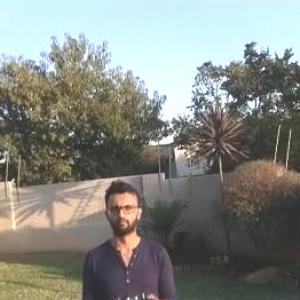follow: (66, 172, 176, 299)
